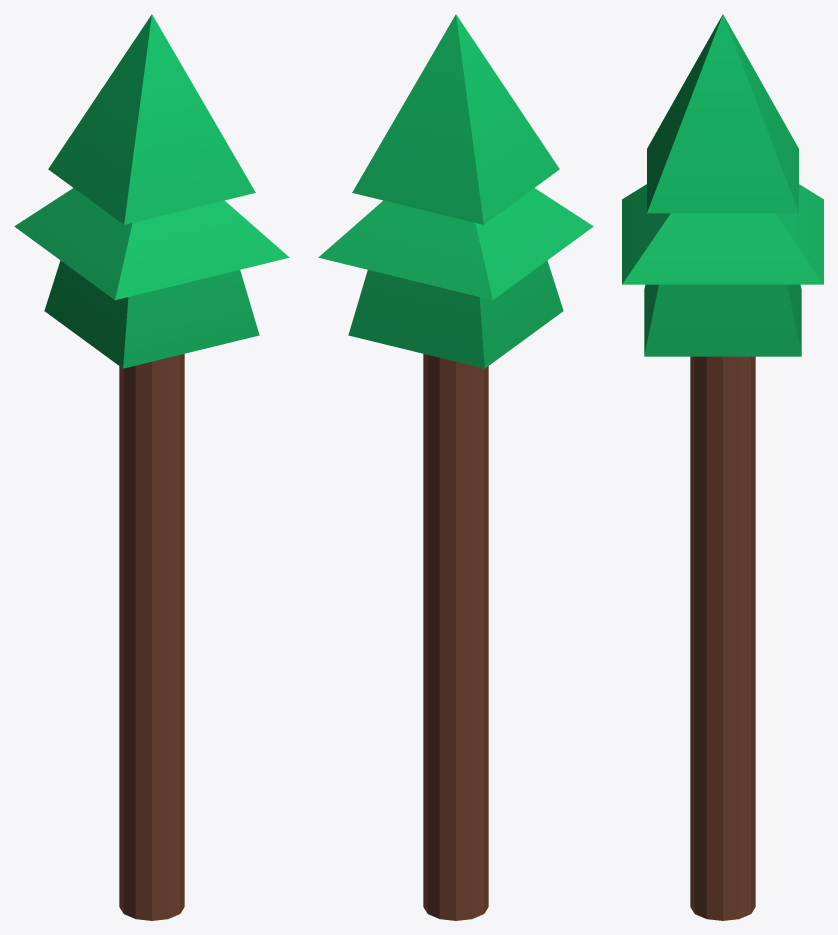
Rendered from Tree_15_gradient_green_vc.fbx.
The picture shows the model from 3 angles, left to right: view 1: azimuth 30°, elevation 25°; view 2: azimuth 150°, elevation 25°; view 3: azimuth 270°, elevation 25°; orthographic projection.
Visible parts, largest first — view 1: Tree_15_gradient_green_vc; view 2: Tree_15_gradient_green_vc; view 3: Tree_15_gradient_green_vc.
Part boxes in pixels (left/top/right/bottom): Tree_15_gradient_green_vc: left=14, top=14, right=289, bottom=920; Tree_15_gradient_green_vc: left=318, top=14, right=593, bottom=920; Tree_15_gradient_green_vc: left=622, top=14, right=823, bottom=920.
Bounding box in the file's own units: 68.73 × 336 × 68.73.
